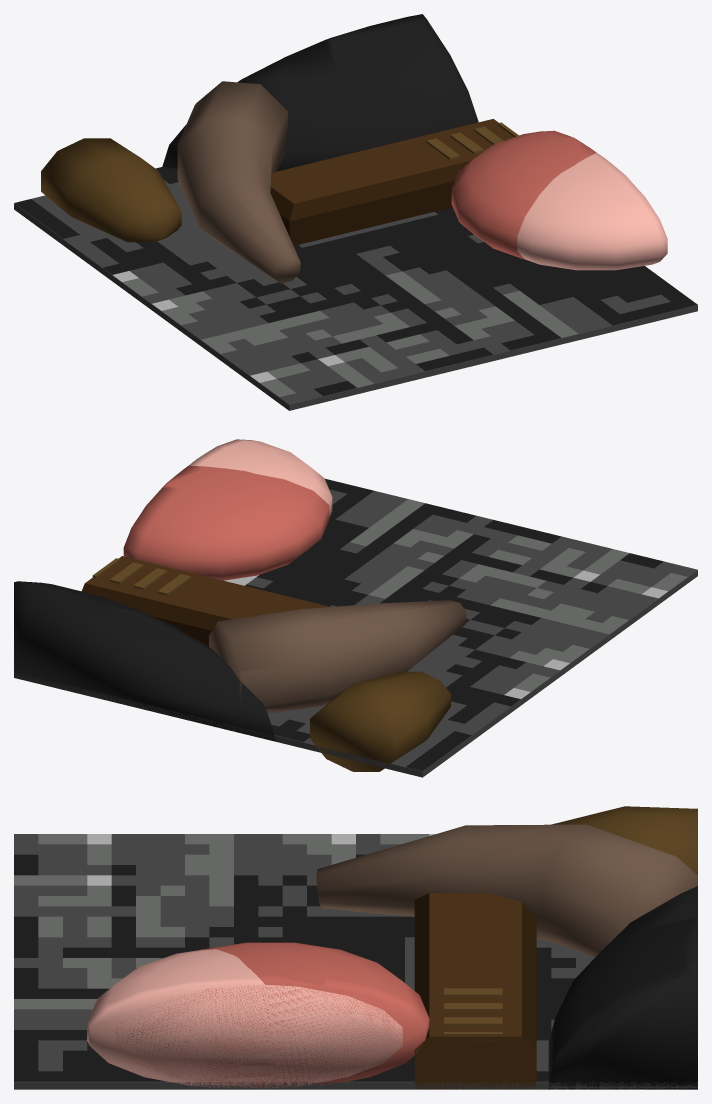
The model's file is newshs-77-f2.glb.
3 views of the same model, one above another, from view 1: azimuth 30°, elevation 25°; view 2: azimuth 150°, elevation 25°; view 3: azimuth 270°, elevation 25° (orthographic). The views are drawn at different scales.
Visible parts, largest first — view 1: newshs-77, newshs-77-ball-bright, newshs-77-ball-dim; view 2: newshs-77, newshs-77-ball-dim, newshs-77-ball-bright; view 3: newshs-77, newshs-77-ball-bright, newshs-77-ball-dim.
Part boxes in pixels (bbox=[...]): newshs-77: bbox=[14, 14, 697, 410]; newshs-77-ball-bright: bbox=[517, 153, 667, 270]; newshs-77-ball-dim: bbox=[451, 130, 596, 259]; newshs-77: bbox=[14, 478, 697, 777]; newshs-77-ball-dim: bbox=[123, 466, 329, 580]; newshs-77-ball-bright: bbox=[188, 439, 332, 517]; newshs-77: bbox=[14, 806, 697, 1089]; newshs-77-ball-bright: bbox=[87, 949, 402, 1087]; newshs-77-ball-dim: bbox=[115, 942, 429, 1088].
Size of the model in its own units: 2 by 0.5118 by 2.33.
